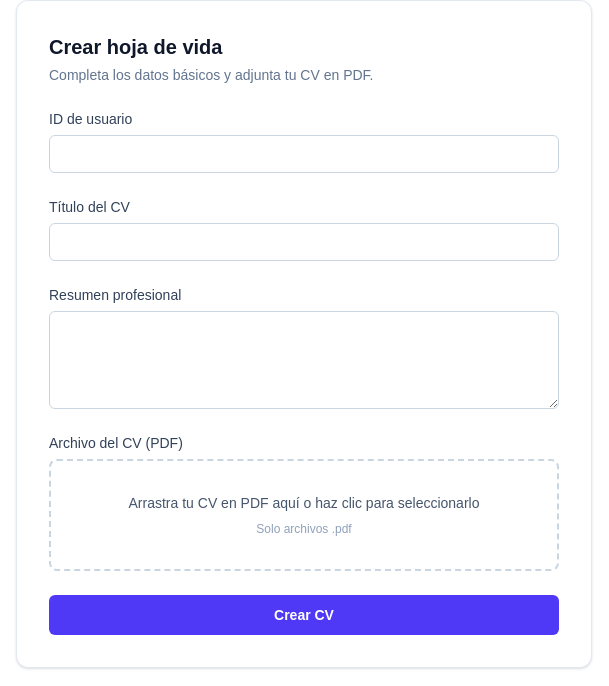
Test: ResumeForm › muestra el spinner y deshabilita el botón mientras se envía
The image size is (609, 686).
Type "3fa85f64-5717-4562-b3fc-2c963f66afa6" into the field labelled "ID de usuario" at {"x": 304, "y": 154}, box [49, 135, 559, 173]
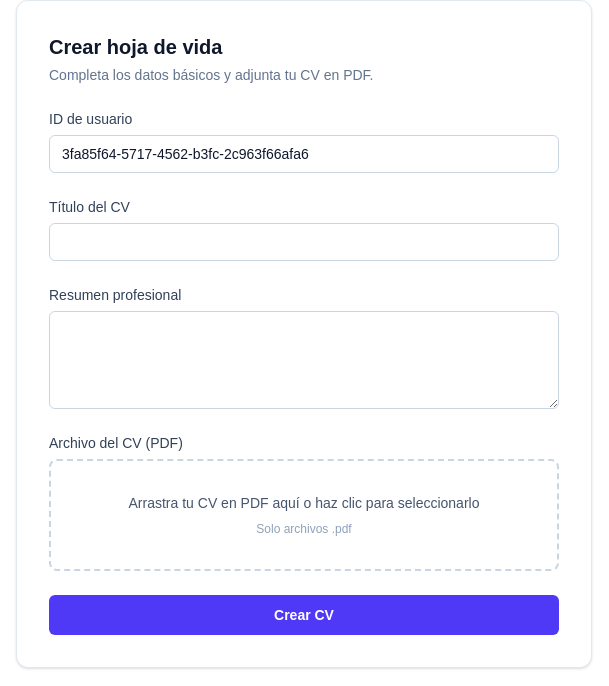
Type "Backend Engineer" into the field labelled "Título del CV" at {"x": 304, "y": 242}, box [49, 223, 559, 261]
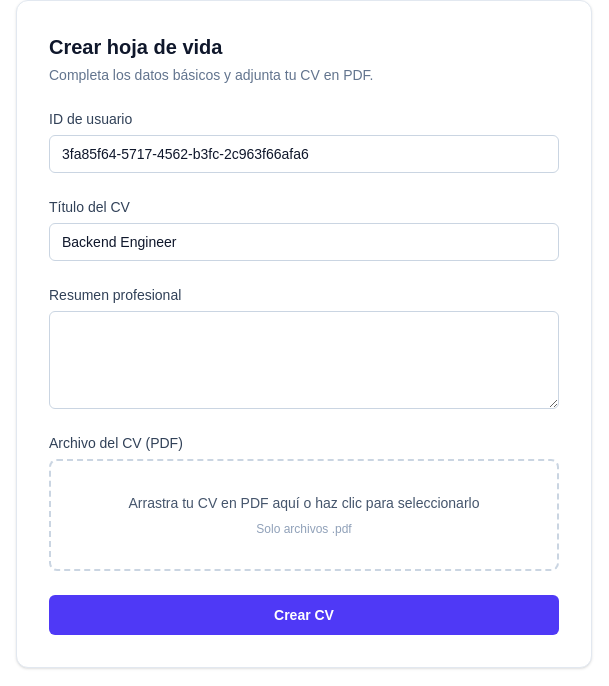
Click the button "Crear CV" at {"x": 304, "y": 615}, box [49, 595, 559, 635]
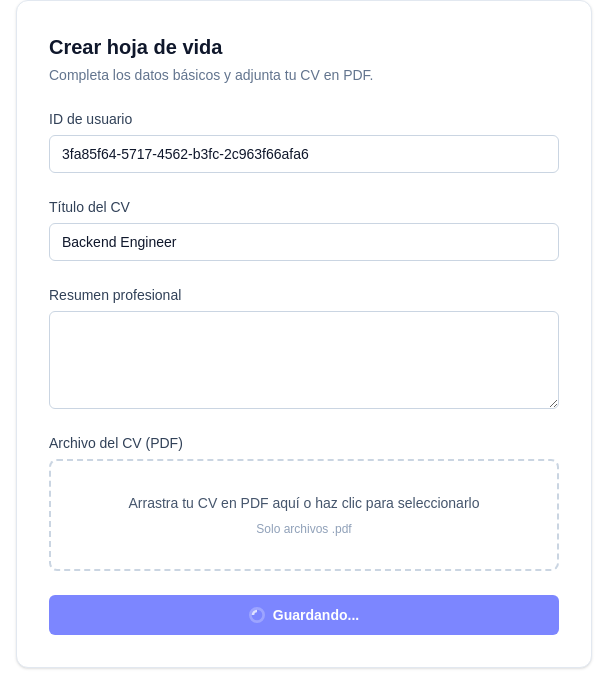
Result: the button "Guardando..." is disabled at [49, 595, 559, 635]
